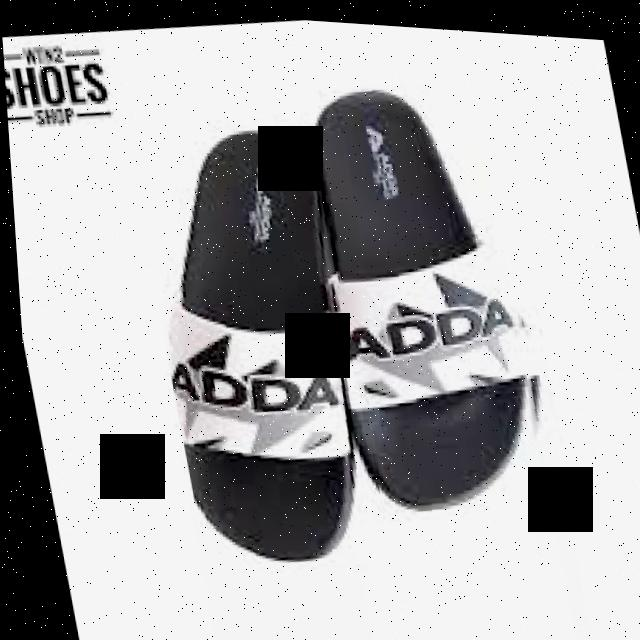shoe: (116, 54, 569, 589), (130, 107, 386, 573), (303, 66, 562, 520)
